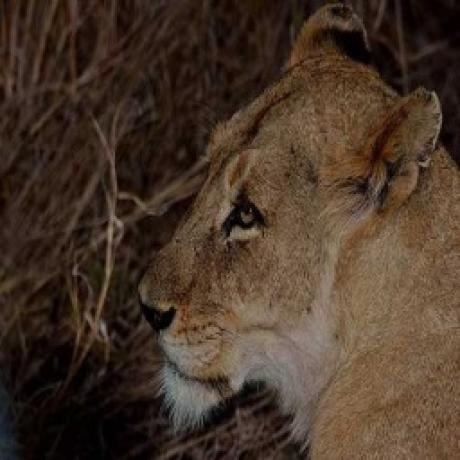Lion: (131, 3, 460, 460)
